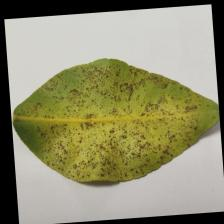canker: (52, 80, 158, 170)
